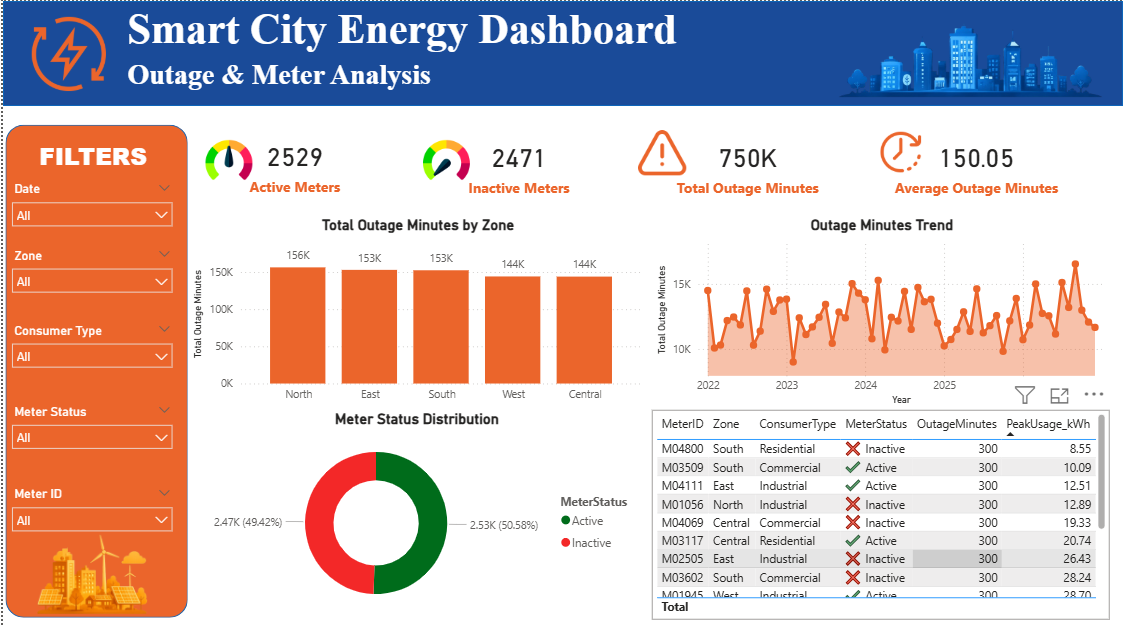

Layout of this report page (visuals, bound fields, positions):
{"tool":"powerbi","page":{"name":"Outage & Meter Analysis","canvas":[1280,720],"ordinal":3},"visuals":[{"type":"shape","box":[0,0,1280,120],"z":0},{"type":"shape","box":[3.3,141.7,208.3,563.3],"z":1000},{"type":"card","fields":{"Values":["Measure.Active Meters"]},"box":[213.3,131.7,241.7,113.3],"z":2000},{"type":"card","fields":{"Values":["Measure.Inactive Meters"]},"box":[464.6,131.3,251,114],"z":3000},{"type":"card","fields":{"Values":["Measure.Total Outage Minutes"]},"box":[725.7,131.3,251,114],"z":4000},{"type":"card","fields":{"Values":["Measure.Average Outage Minutes"]},"box":[986.8,131.3,251,114],"z":5000},{"type":"columnChart","fields":{"Category":["Smart City Energy.Zone"],"Y":["Measure.Total Outage Minutes"]},"box":[213.3,245,523.3,221.7],"z":6000},{"type":"lineChart","title":"Outage Minutes Trend","fields":{"Category":["Smart City Energy.Date.Variation.Date Hierarchy.Year","Smart City Energy.Date.Variation.Date Hierarchy.Month"],"Y":["Measure.Total Outage Minutes"]},"box":[743.3,245,523.3,221.7],"z":7000},{"type":"donutChart","title":" Meter Status Distribution","fields":{"Category":["Smart City Energy.MeterStatus"],"Y":["CountNonNull(Smart City Energy.MeterID)"]},"box":[211.7,466.7,523.3,240],"z":8000},{"type":"tableEx","fields":{"Values":["Smart City Energy.MeterID","Smart City Energy.Zone","Smart City Energy.ConsumerType","Smart City Energy.MeterStatus","Smart City Energy.OutageMinutes","Smart City Energy.PeakUsage_kWh"]},"box":[741.7,466.7,523.3,240],"z":9000},{"type":"textbox","box":[137,0,740.4,81.9],"z":10000},{"type":"textbox","box":[137,60.5,558.9,60.5],"z":11000},{"type":"textbox","box":[21.7,153.3,163.3,61.7],"z":12000},{"type":"image","box":[945,0,320,141.7],"z":13000},{"type":"slicer","fields":{"Values":["Smart City Energy.Date Hierarchy.Date","Smart City Energy.Date Hierarchy.Year","Smart City Energy.Date Hierarchy.Month","Smart City Energy.Date Hierarchy.Quarter"]},"box":[0,201.7,203.3,88.3],"z":14000},{"type":"slicer","fields":{"Values":["Smart City Energy.Zone"]},"box":[0,276.7,203.3,86.7],"z":15000},{"type":"slicer","fields":{"Values":["Smart City Energy.ConsumerType"]},"box":[0,363.3,203.3,86.7],"z":16000},{"type":"slicer","fields":{"Values":["Smart City Energy.MeterStatus"]},"box":[0,455,203.3,86.7],"z":17000},{"type":"slicer","fields":{"Values":["Smart City Energy.MeterID"]},"box":[0,550,203.3,88.3],"z":18000},{"type":"image","box":[33.2,15.9,85.1,89.5],"z":18001},{"type":"image","box":[230.8,152.9,53.4,57.7],"z":18002},{"type":"image","box":[480.4,152.9,53.4,57.7],"z":18003},{"type":"image","box":[725.7,131.3,54.8,83.7],"z":18004},{"type":"image","box":[1002.7,141.4,46.2,62],"z":18005},{"type":"image","box":[18.8,594.4,163,125.5],"z":18006}]}

Visuals, with their boxes in screenshot pixels (x1, y1, x2, y2), scaled from the page's 1280x720 canvas onto the 1123x627 screenshot:
shape: locate(0, 0, 1122, 104)
shape: locate(3, 123, 186, 614)
card - Measure.Active Meters: locate(187, 115, 399, 213)
card - Measure.Inactive Meters: locate(408, 114, 628, 214)
card - Measure.Total Outage Minutes: locate(637, 114, 857, 214)
card - Measure.Average Outage Minutes: locate(866, 114, 1086, 214)
columnChart - Smart City Energy.Zone x Measure.Total Outage Minutes: locate(187, 213, 646, 406)
"Outage Minutes Trend" lineChart: locate(652, 213, 1111, 406)
" Meter Status Distribution" donutChart: locate(186, 406, 645, 615)
tableEx - Smart City Energy.MeterID x Smart City Energy.Zone: locate(651, 406, 1110, 615)
textbox: locate(120, 0, 770, 71)
textbox: locate(120, 53, 611, 105)
textbox: locate(19, 133, 162, 187)
image: locate(829, 0, 1110, 123)
slicer - Smart City Energy.Date Hierarchy.Date x Smart City Energy.Date Hierarchy.Year: locate(0, 176, 178, 253)
slicer - Smart City Energy.Zone: locate(0, 241, 178, 316)
slicer - Smart City Energy.ConsumerType: locate(0, 316, 178, 392)
slicer - Smart City Energy.MeterStatus: locate(0, 396, 178, 472)
slicer - Smart City Energy.MeterID: locate(0, 479, 178, 556)
image: locate(29, 14, 104, 92)
image: locate(202, 133, 249, 183)
image: locate(421, 133, 468, 183)
image: locate(637, 114, 685, 187)
image: locate(880, 123, 920, 177)
image: locate(16, 518, 160, 626)
